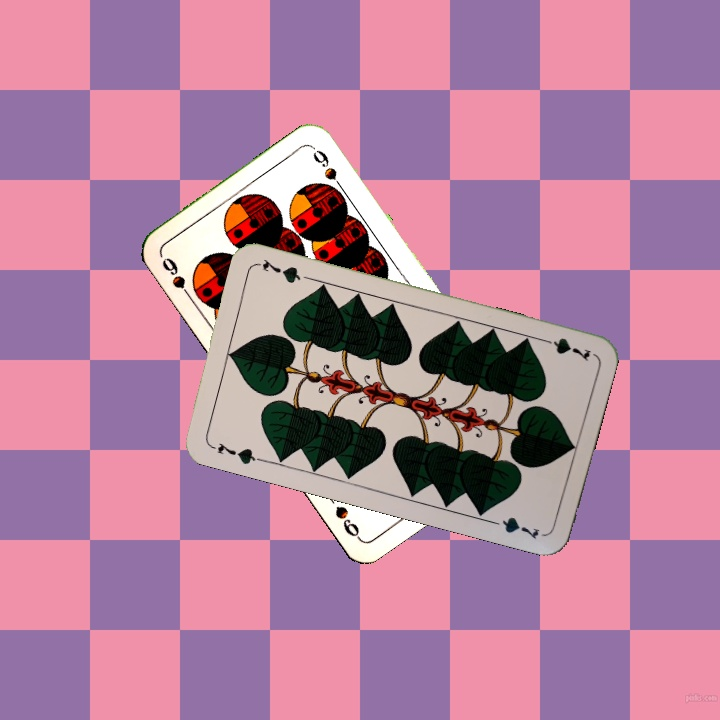G7: (535, 333, 593, 363), (206, 438, 265, 467)
S9: (156, 252, 203, 304)
